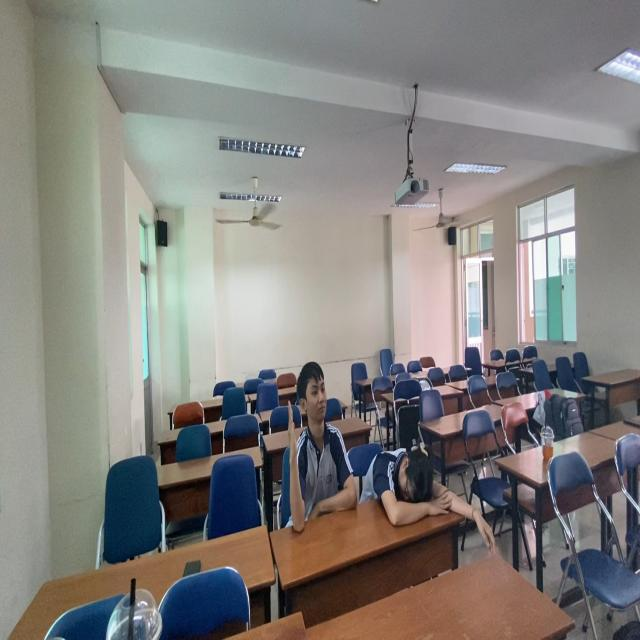raise_hand: (284, 356, 357, 522)
sleep: (364, 435, 465, 538)
